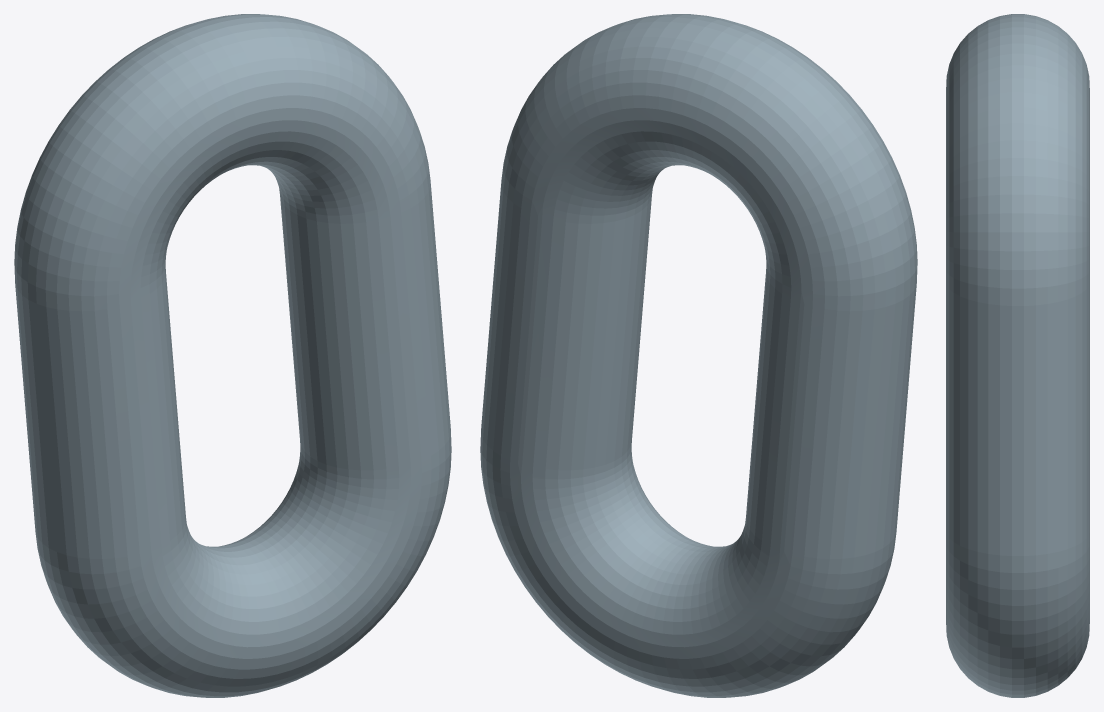
File: Eslabon_Individual.fbx
The picture shows the model from 3 angles, left to right: view 1: azimuth 30°, elevation 25°; view 2: azimuth 150°, elevation 25°; view 3: azimuth 270°, elevation 25°; orthographic projection. The views are drawn at different scales.
Parts seen in each view (by area): view 1: Eslabón_01_2; view 2: Eslabón_01_2; view 3: Eslabón_01_2.
Boxes of the visible parts, x1,y1,x2,y2 form: Eslabón_01_2: (14, 14, 451, 697); Eslabón_01_2: (480, 14, 917, 697); Eslabón_01_2: (946, 14, 1089, 697).
Bounding box in the file's own units: 4138 × 6329 × 1302.
